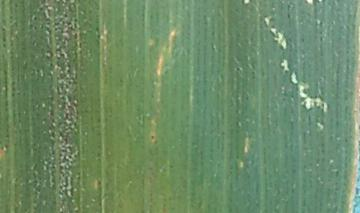tarspot: (286, 2, 293, 13), (95, 178, 103, 186), (234, 66, 242, 73), (285, 12, 291, 19), (149, 134, 155, 140)
